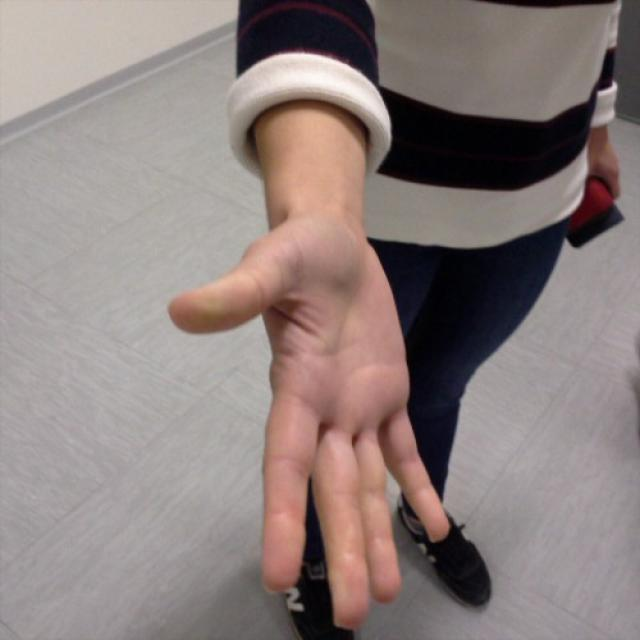paper: (166, 230, 452, 632)
